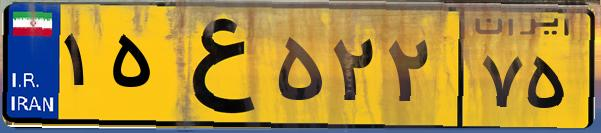1: (57, 26, 110, 100)
2: (385, 28, 445, 110), (330, 28, 385, 110)
5: (270, 28, 330, 110), (525, 38, 570, 115), (110, 28, 158, 98)
7: (475, 38, 525, 113)
ع: (158, 12, 270, 120)
